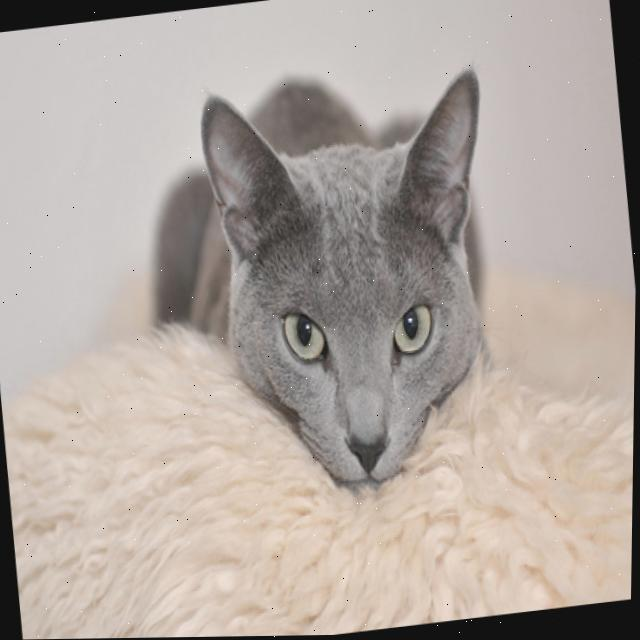Russian Blue: (121, 45, 524, 529)
